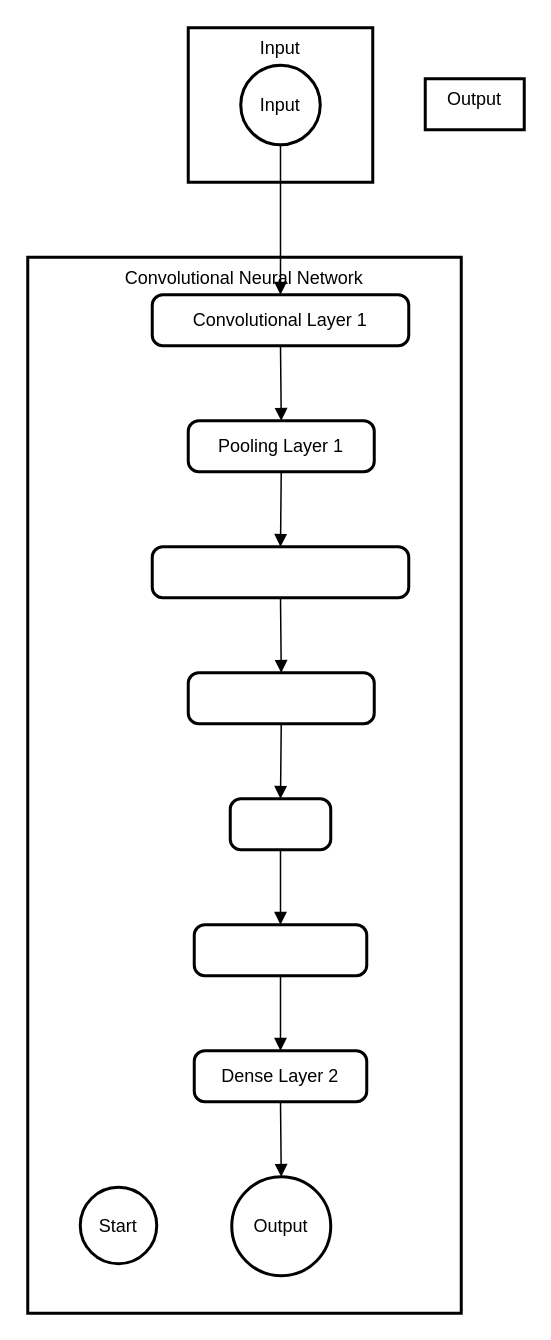
The diagram is 551 pixels wide and 1340 high, and some of its shapes have lost their labels. The centre of each missing label's shape, as x and y in pixels:
Convolutional Layer 2: point 280,571
Dense Layer 1: point 280,949
Flatten: point 280,823
Pooling Layer 2: point 280,697
